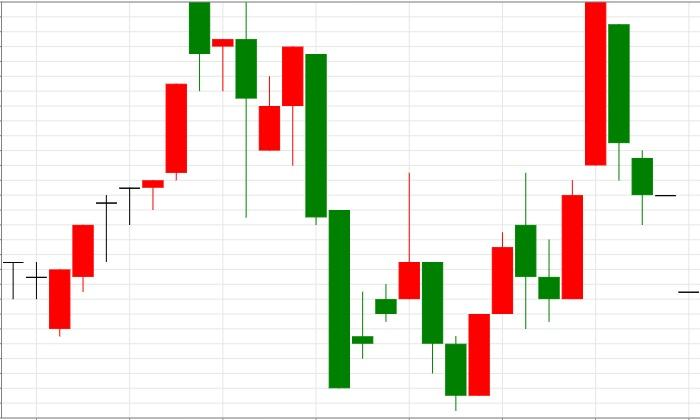shooting_star_fall: (328, 173, 421, 389)
